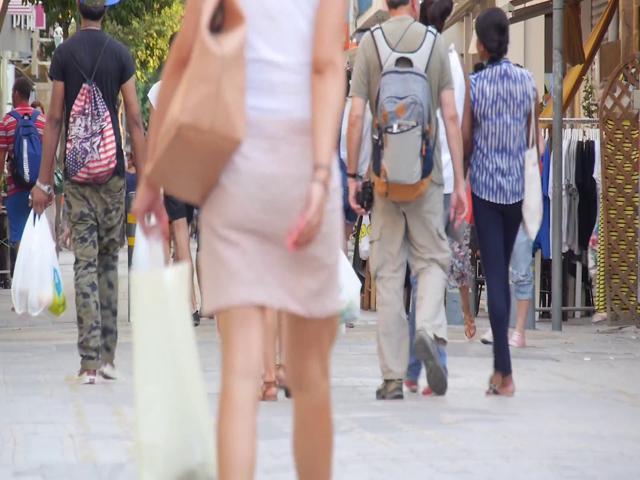shoe: (415, 335, 447, 395), (375, 379, 403, 400), (76, 370, 97, 384), (101, 365, 118, 380)
